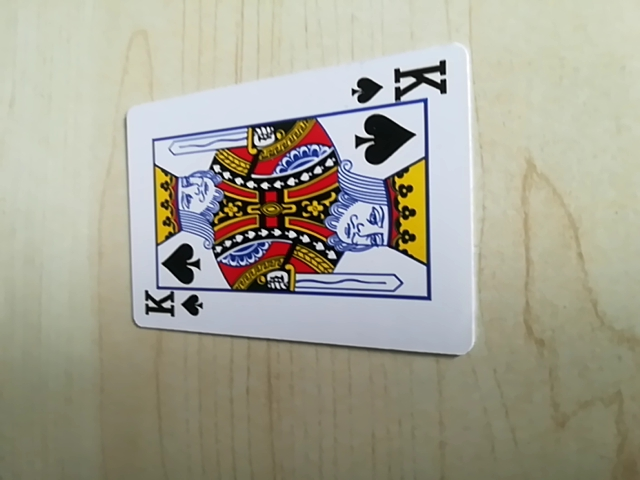ht k: (348, 58, 454, 110), (137, 285, 207, 327)
